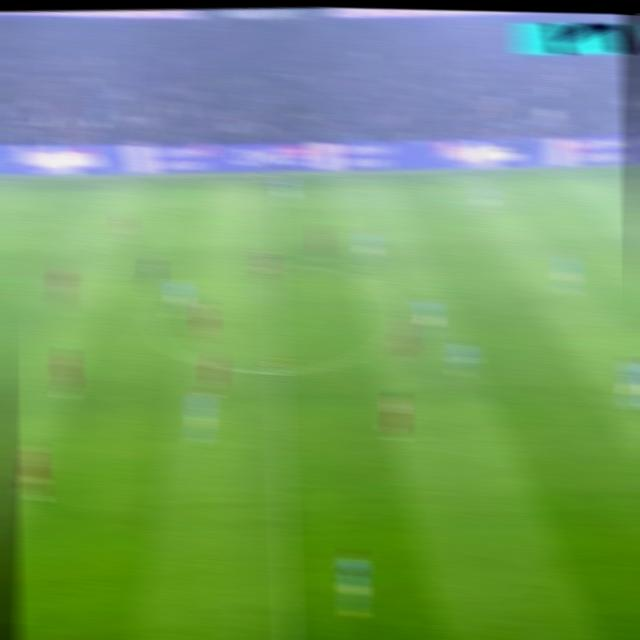halfcircle_bottom: (262, 355, 294, 386)
halfcircle_top: (261, 252, 288, 276)
midline_top_intersection: (256, 171, 281, 190)
